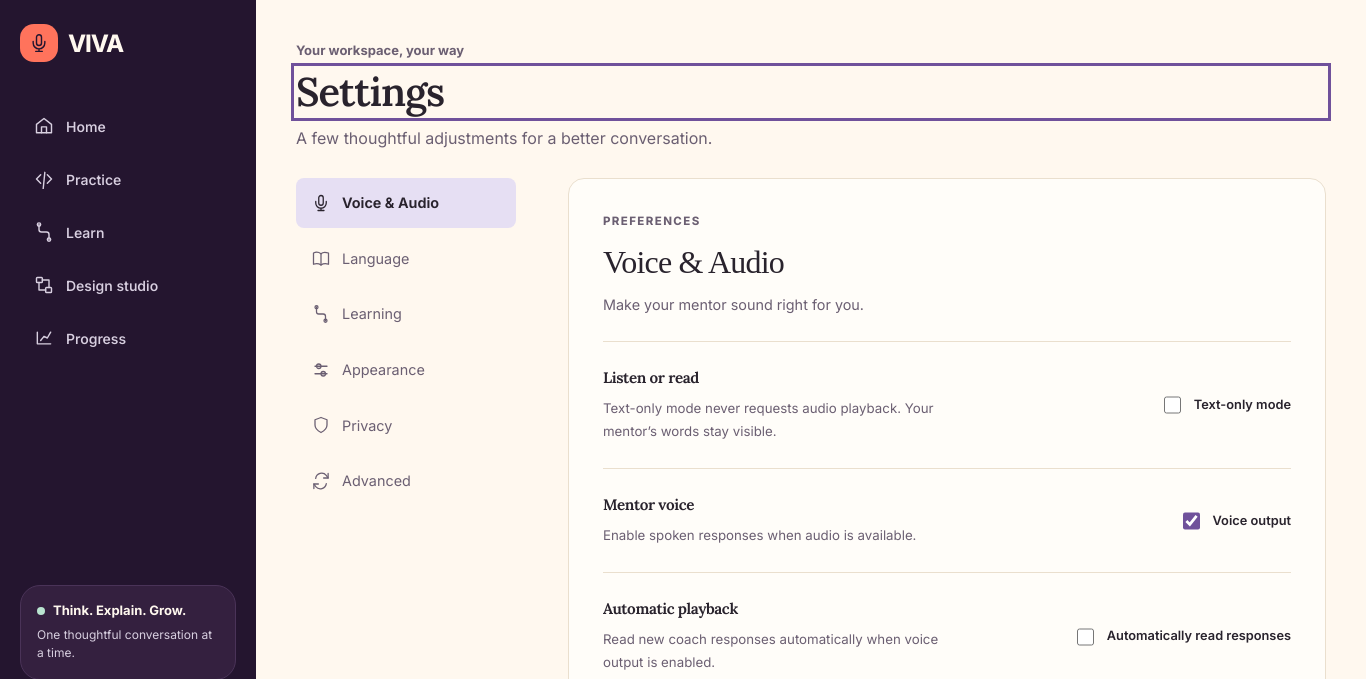
functional product settings › reports persistence denial rather than claiming a successful save
What coordinates should you click on to do the following:
click the checkbox labelled "Text-only mode"
I would click on:
 (1172, 405)
Its box is x1=1164 y1=383 x2=1181 y2=427.
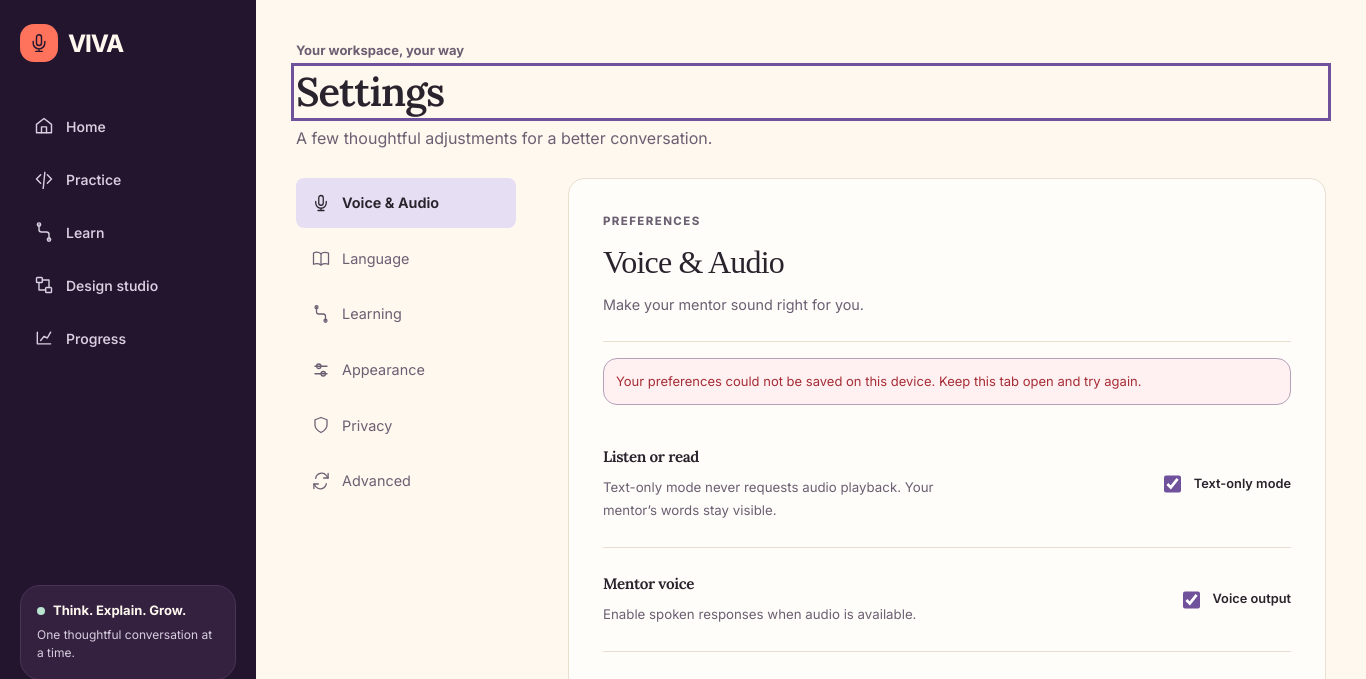
Now the message shows "could not be saved", box x1=616 y1=373 x2=1142 y2=389
